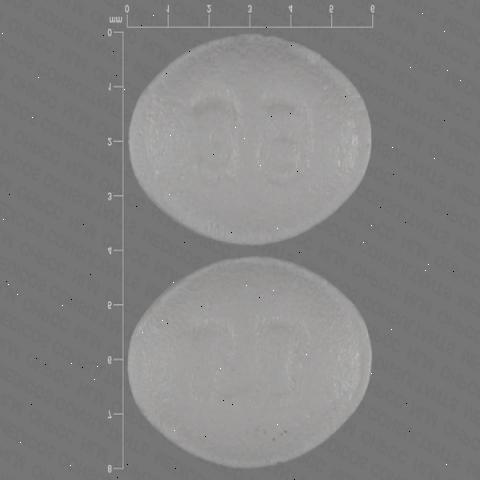Pill: (116, 253, 418, 470), (124, 30, 410, 245)
